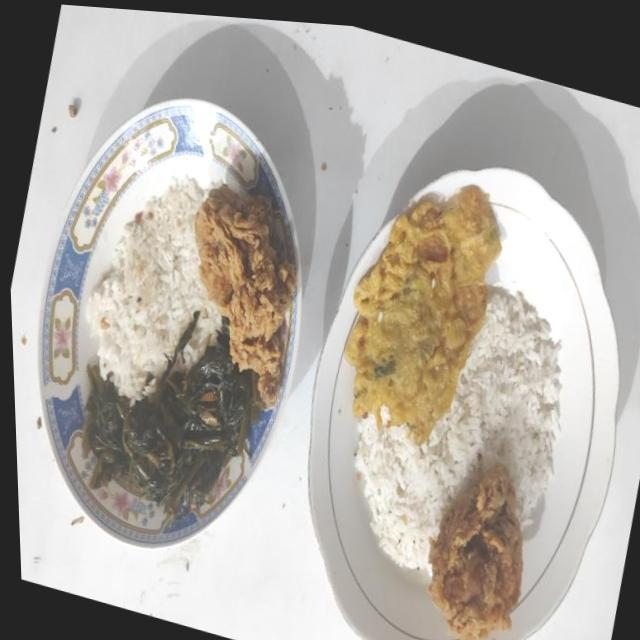nasi_putih: (354, 292, 561, 569), (86, 174, 221, 400)
tumis_kangkung: (81, 317, 262, 524)
